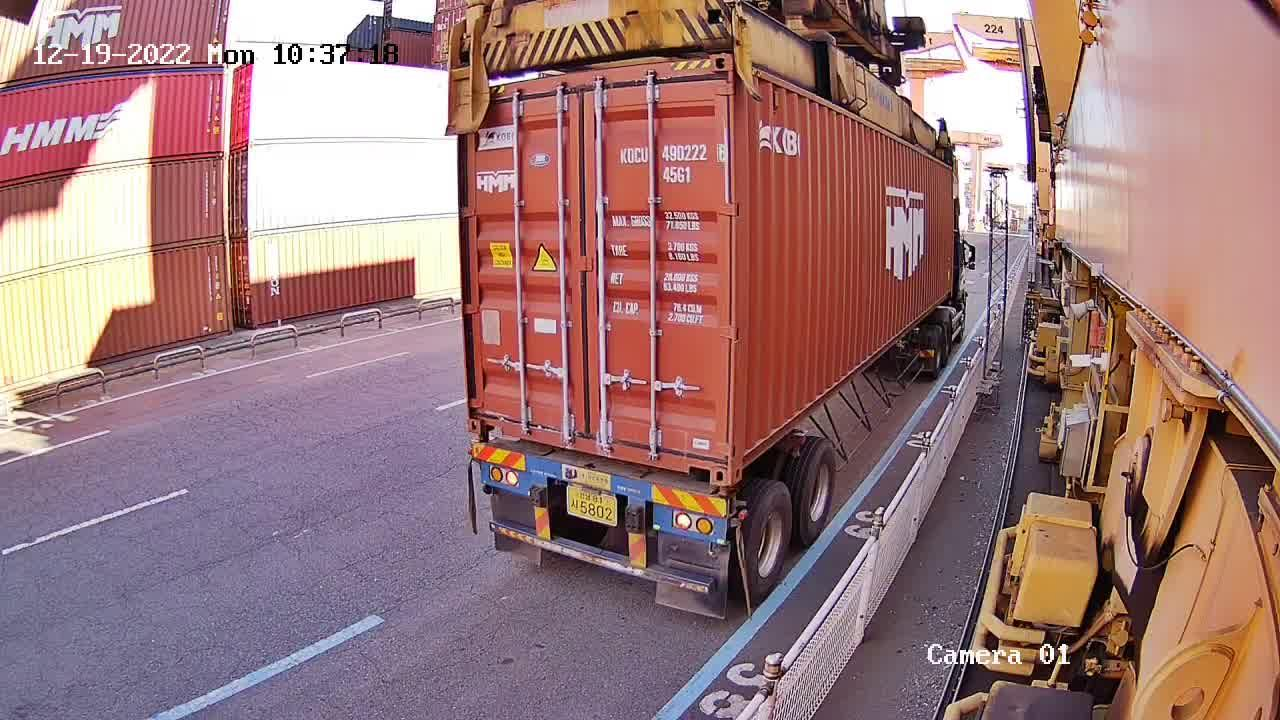Chassis: (471, 446, 727, 535)
Cone: (714, 485, 736, 520), (468, 434, 487, 460)
Hole_L: (730, 415, 762, 488), (468, 391, 508, 435)
Hole_R: (678, 428, 729, 484)
Tire: (744, 486, 793, 590), (799, 440, 838, 539)
